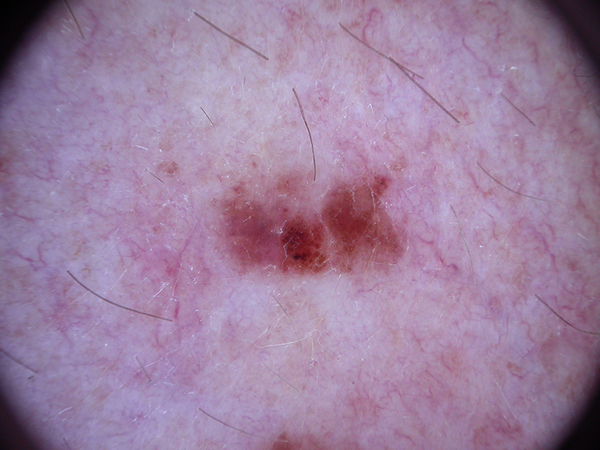Detected Lesion: (220, 161, 406, 279)
